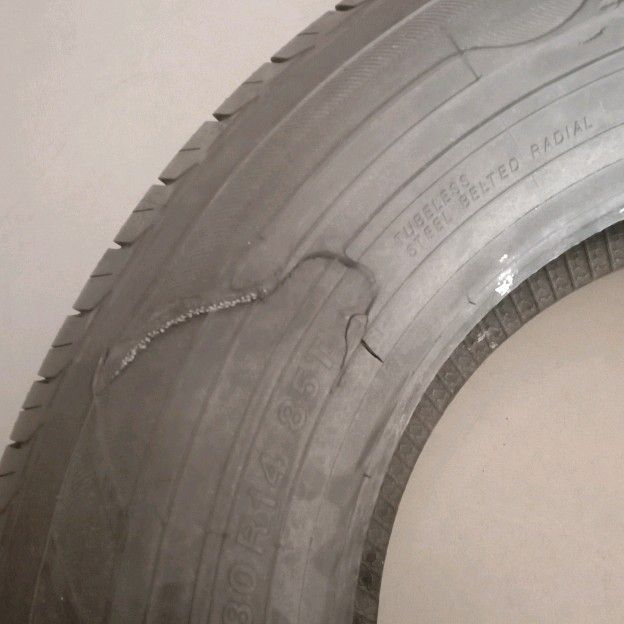cut: (107, 251, 387, 390)
